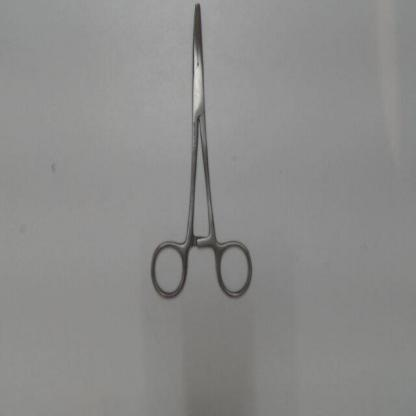Crile Artery Forceps: (143, 0, 258, 303)
